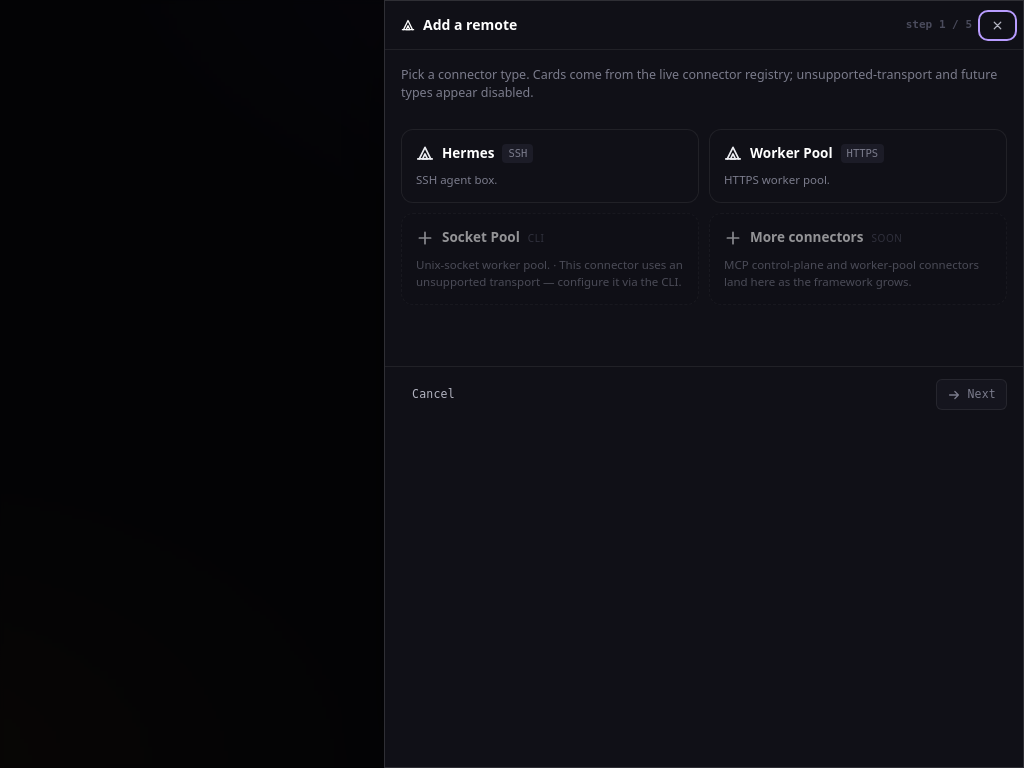
Test: AddRemoteWizard › Next is gated until a connector is picked
expect the button "Next" is disabled: met, box [936,379,1007,410]
Click the text "Hermes".
click(468, 153)  # box [442,144,494,163]
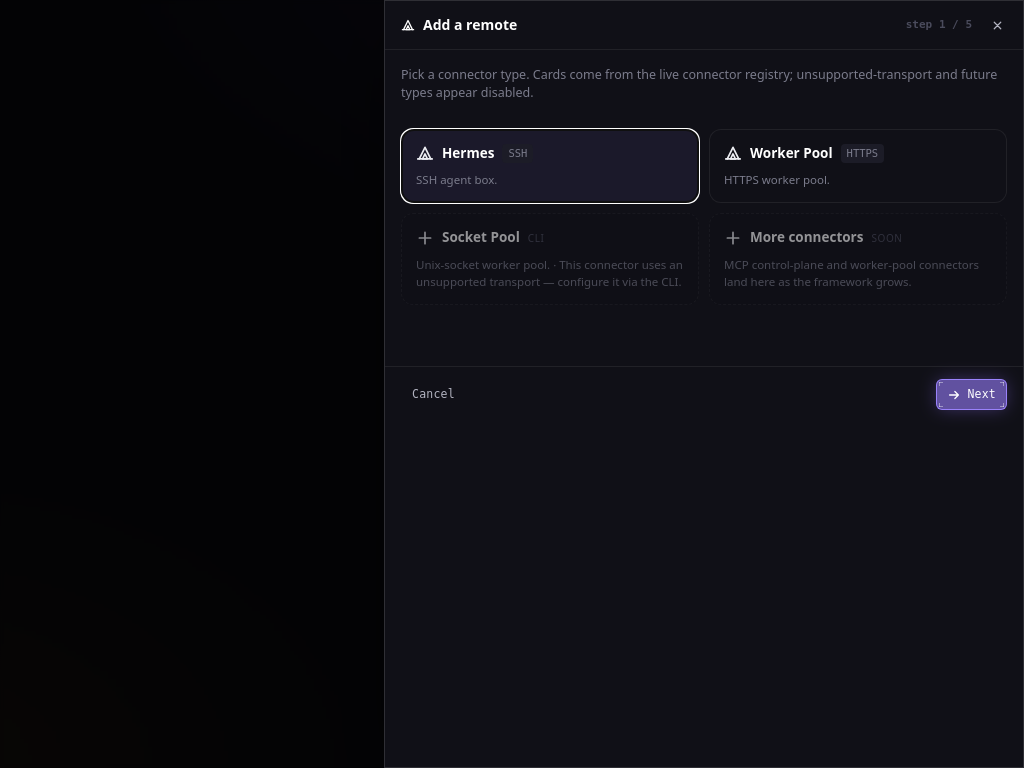
expect the button "Next" is enabled: met, box [936,379,1007,410]
